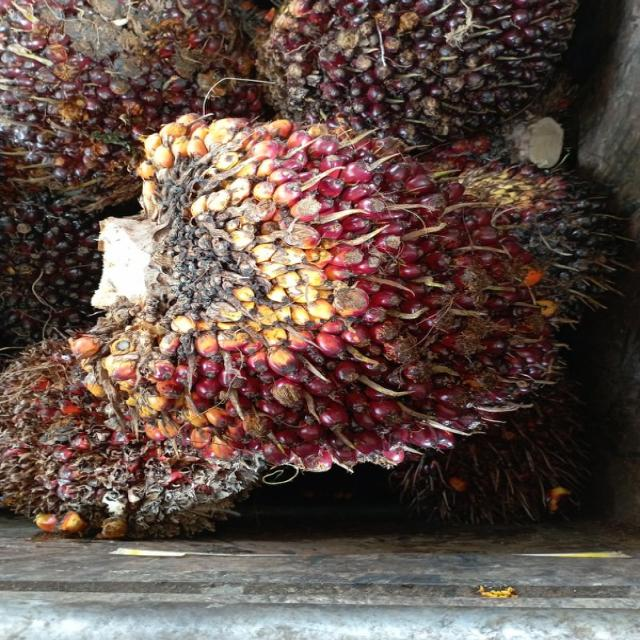fraksi 1: (36, 60, 602, 514)
